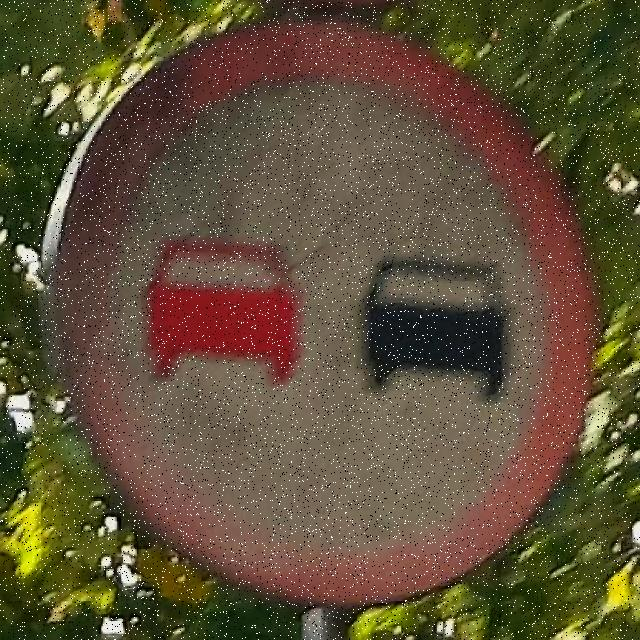Zakaz wyprzedzania: (48, 18, 596, 610)
